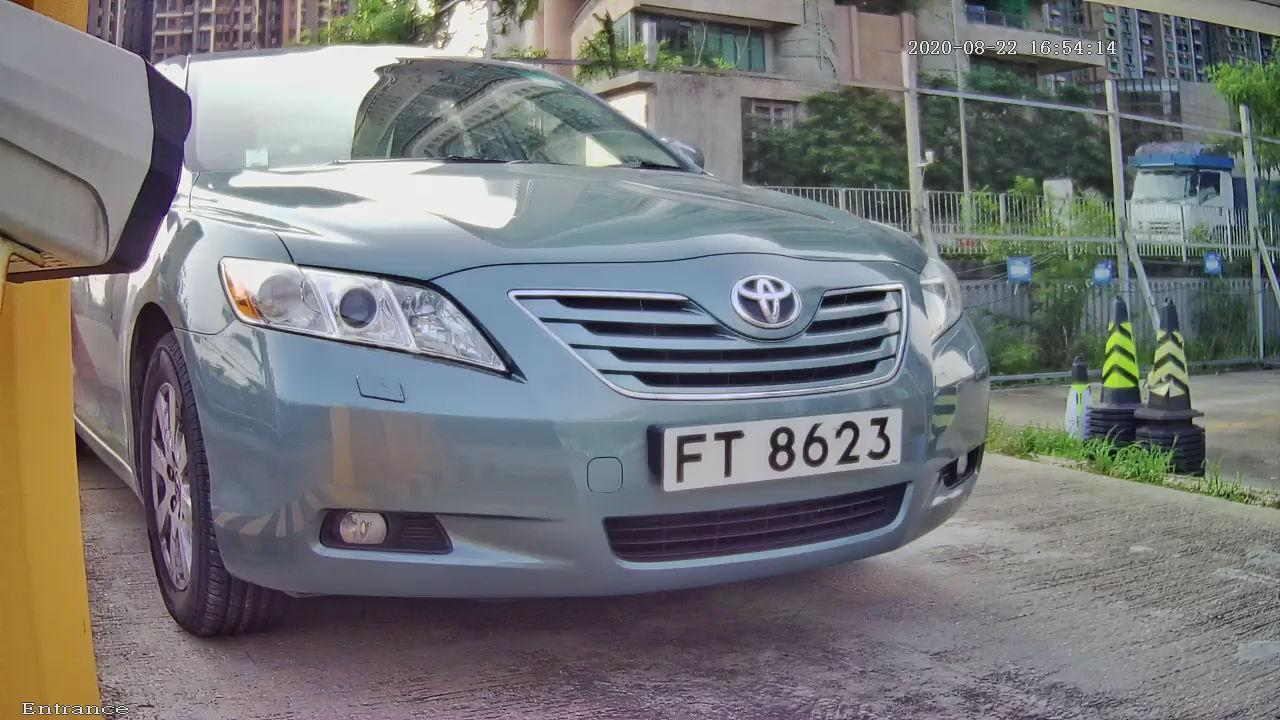Car: (41, 10, 1098, 656)
License Plate: (641, 396, 915, 502)
